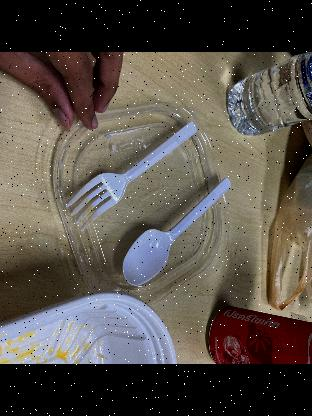Others: (59, 110, 203, 236), (118, 176, 234, 294)
